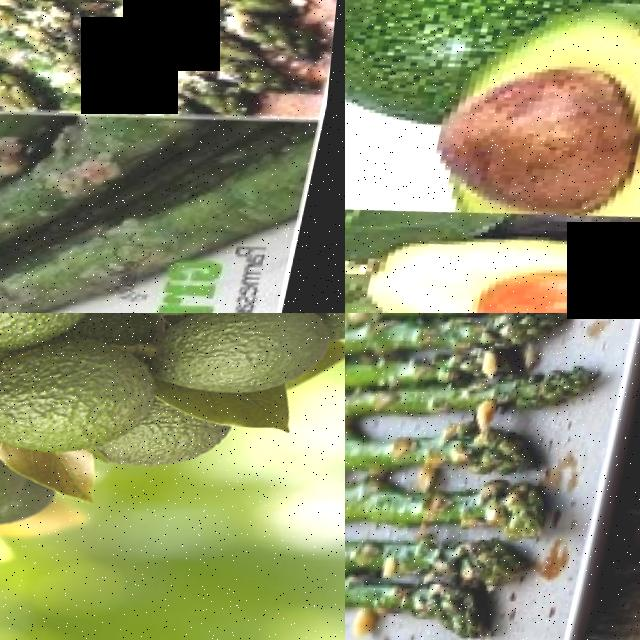avocado: (402, 0, 640, 261), (345, 205, 640, 313), (0, 320, 160, 488), (345, 0, 495, 149), (150, 313, 345, 422), (85, 395, 236, 498), (79, 313, 285, 350), (230, 313, 345, 375), (0, 313, 110, 376)
